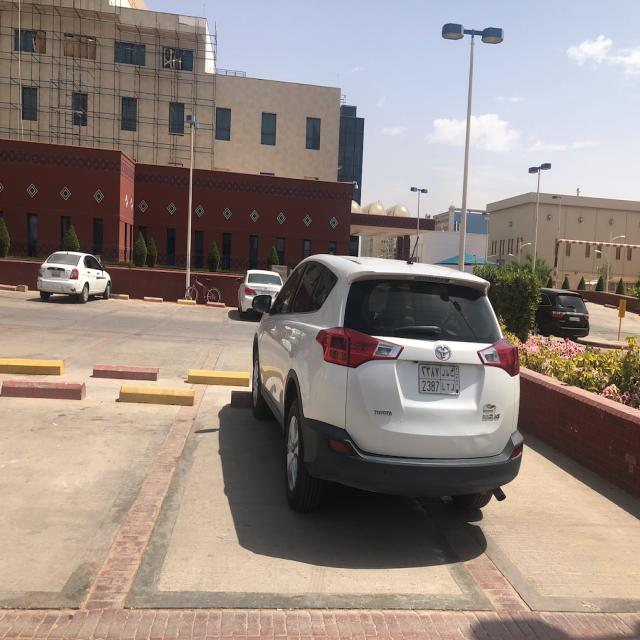license_plate: (419, 363, 458, 394), (51, 271, 61, 277), (569, 317, 580, 321), (262, 291, 270, 296)
